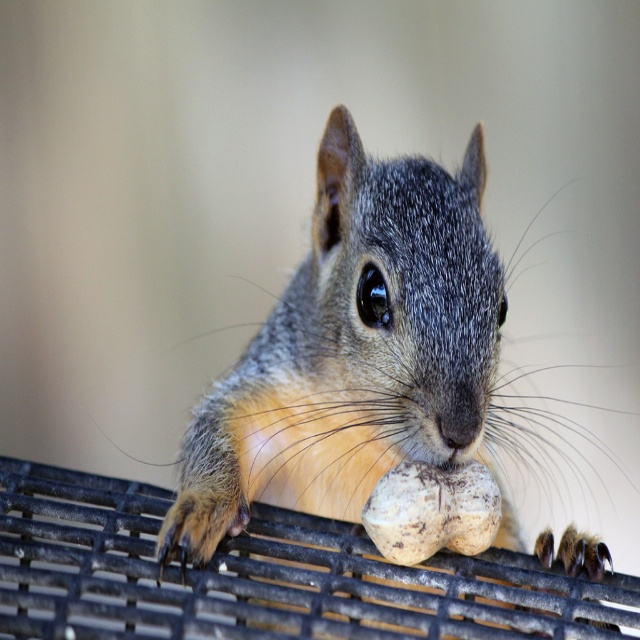Squirrel: (86, 102, 640, 589)
